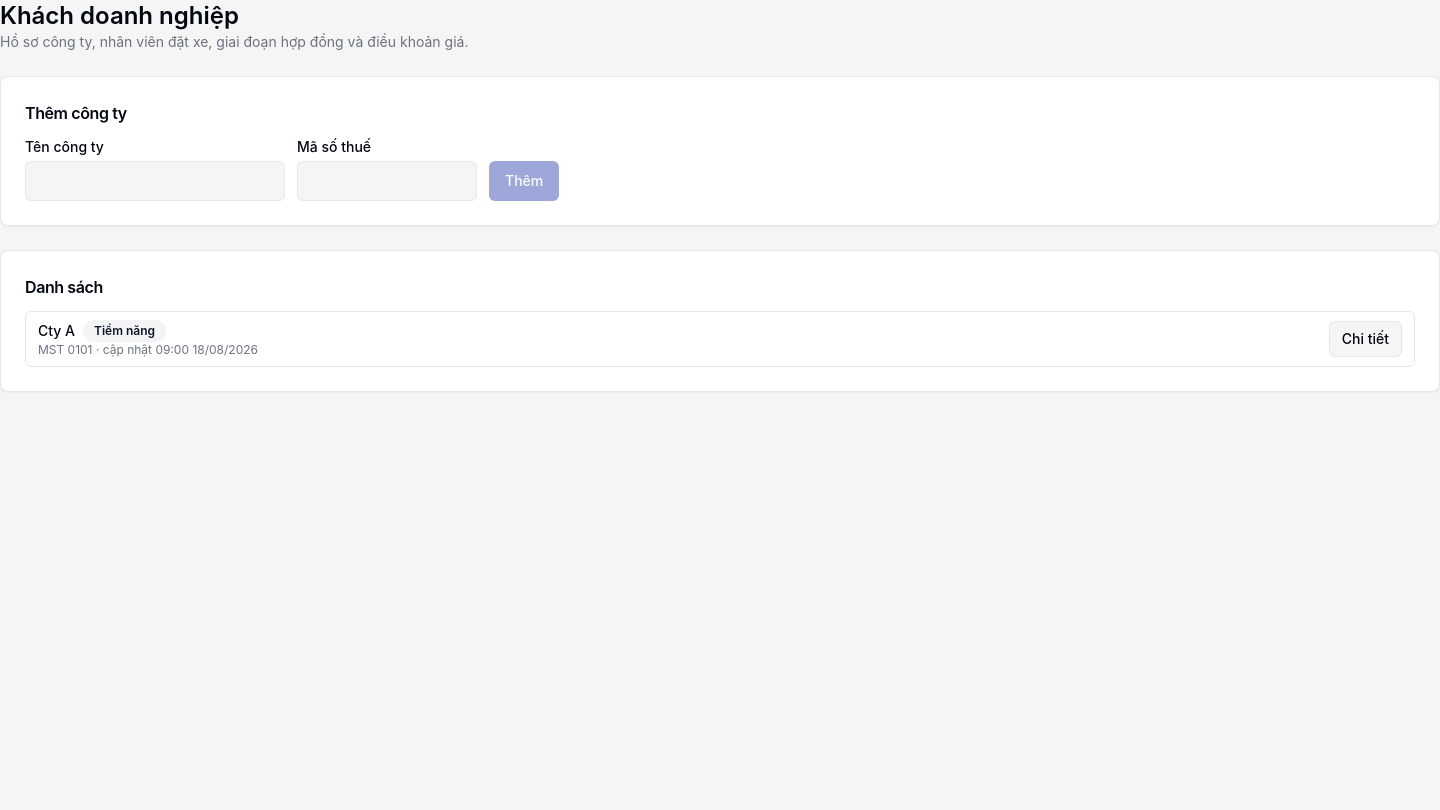
Scenario: /crm-accounts › xem chuyến 30 ngày hiện số chuyến và doanh thu
This screenshot has width=1440, height=810.
Click the button "Chi tiết ": (1365, 339) [1329,321,1402,357]
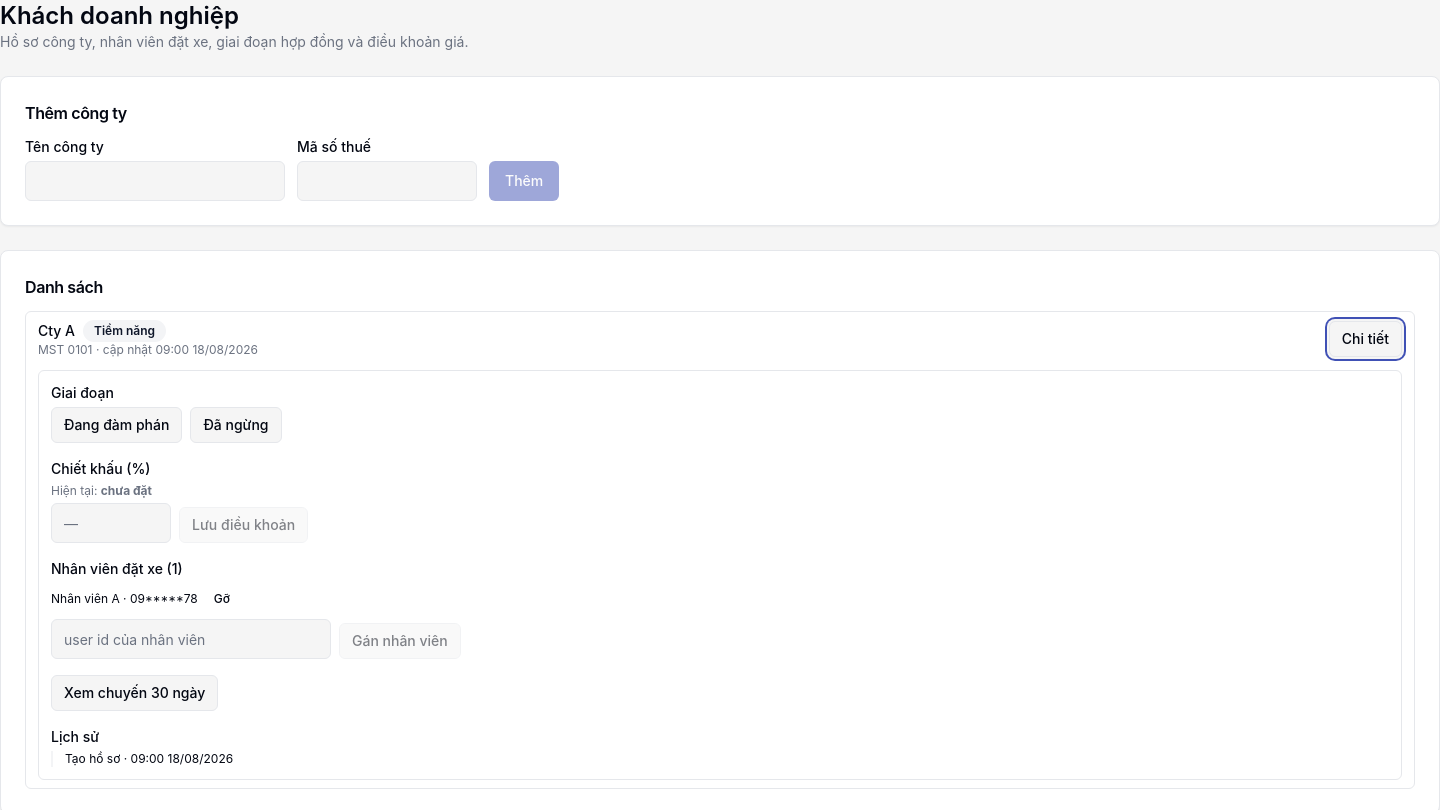
Click the button "Xem chuyến 30 ngày": (135, 693) [51,675,218,711]
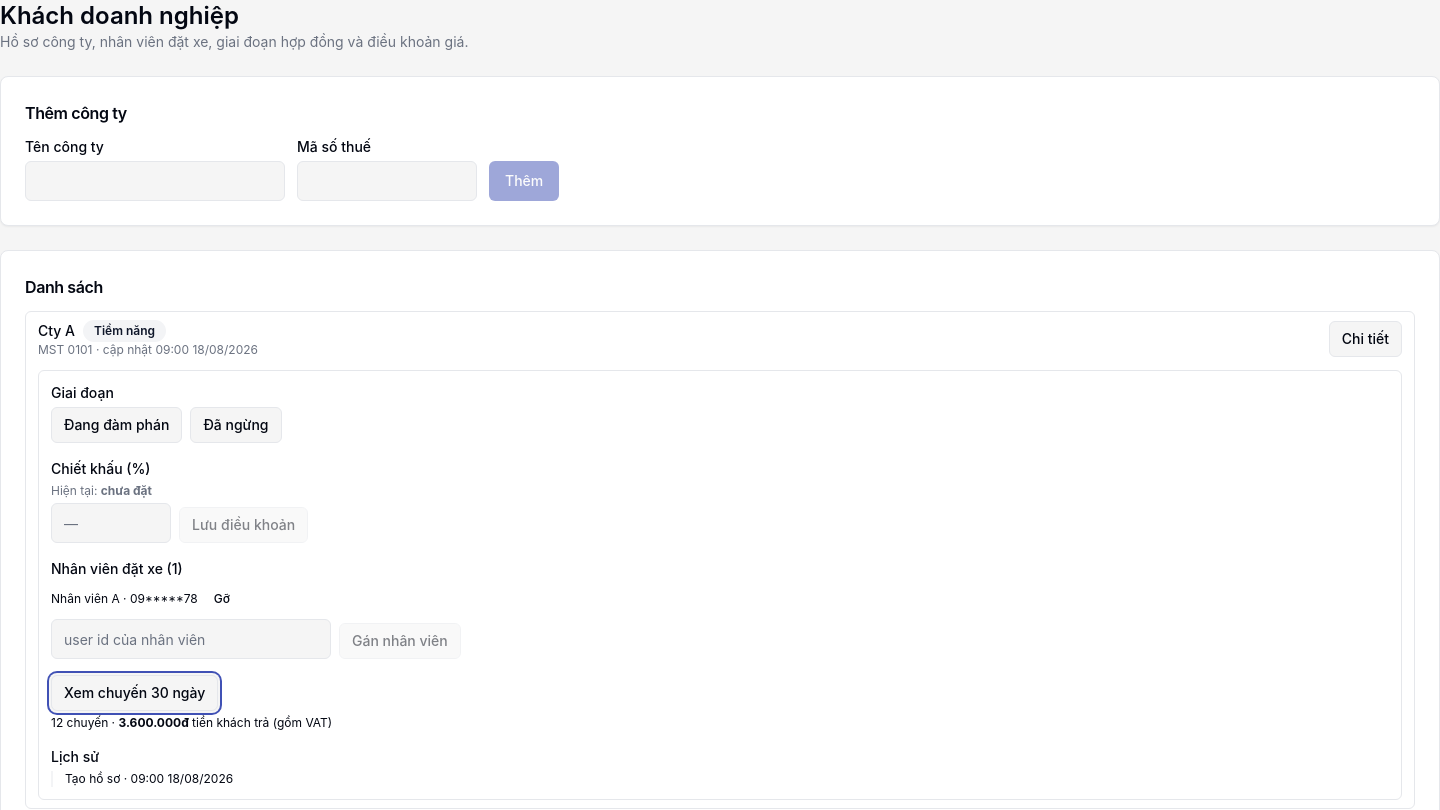
Check: the element with test id "crm-account-usage" shows "3.600.000đ", box [51,715,332,730]
